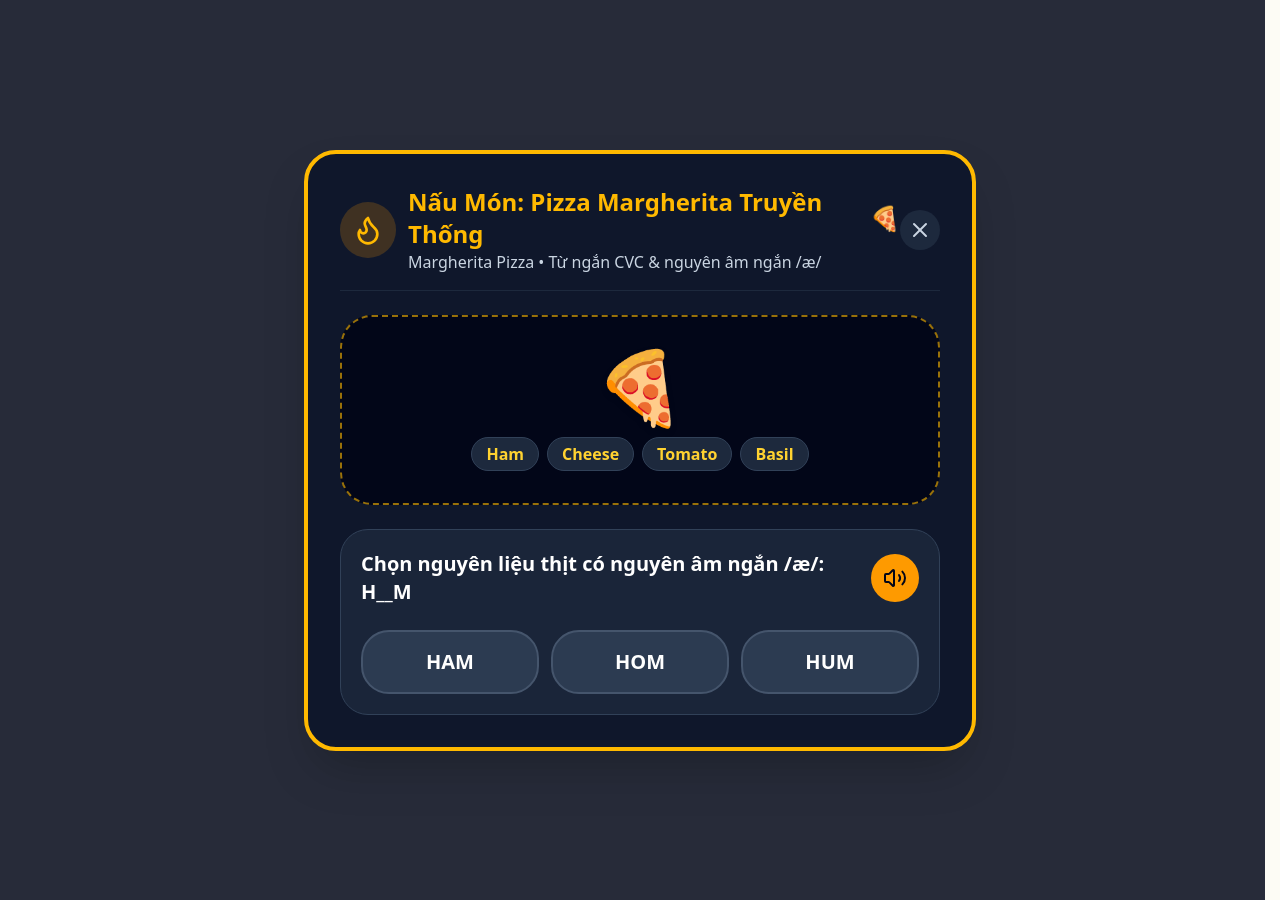
Test case: Phonics Kitchen UI Components › CookingWorkbenchModal › handles wrong option selection with kick sound
// Click wrong option "HOM"
Click the button "HOM": point(640, 662) left=551, top=630, right=729, bottom=694
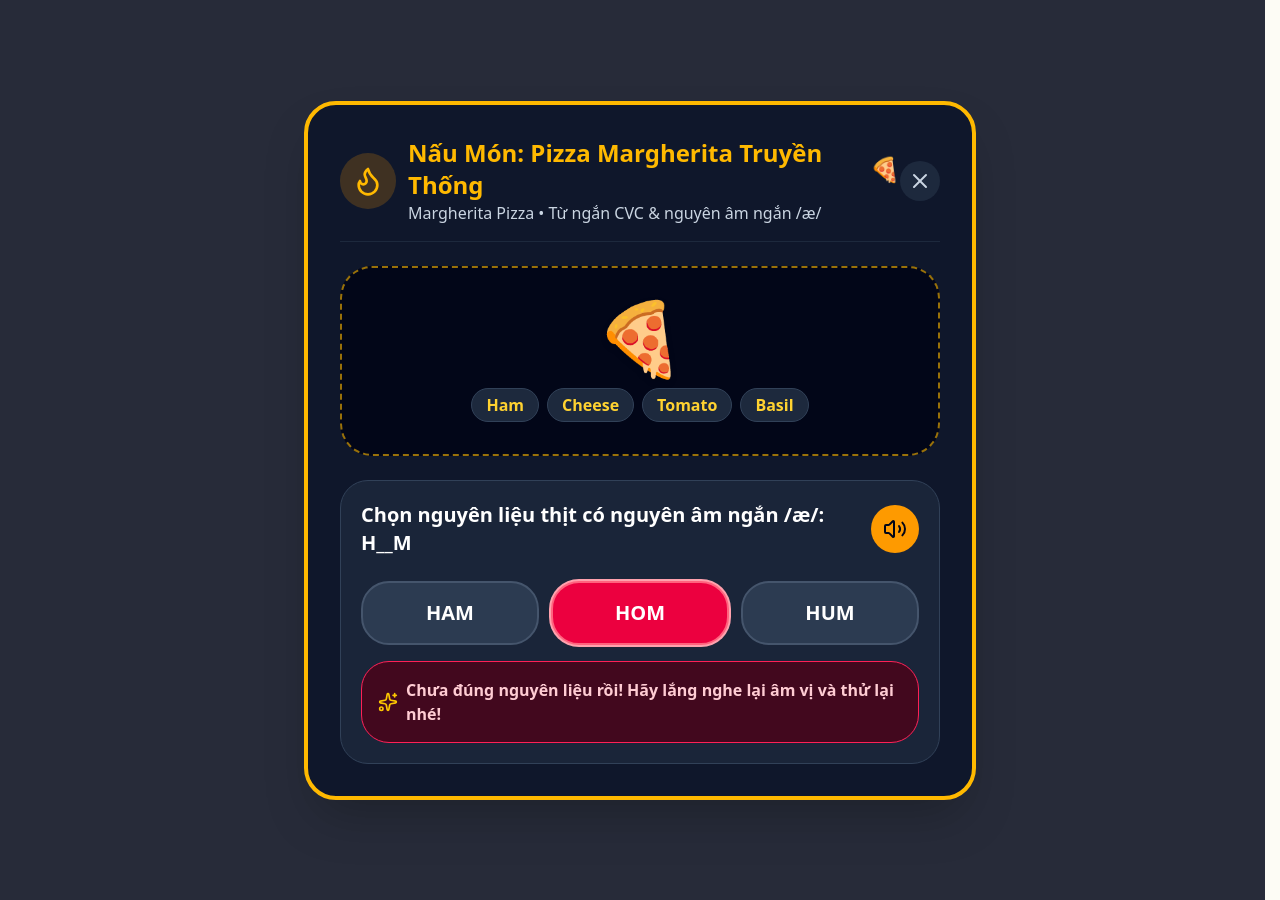
Now the text "Chưa đúng nguyên liệu rồi!" is shown, box left=406, top=678, right=894, bottom=724
